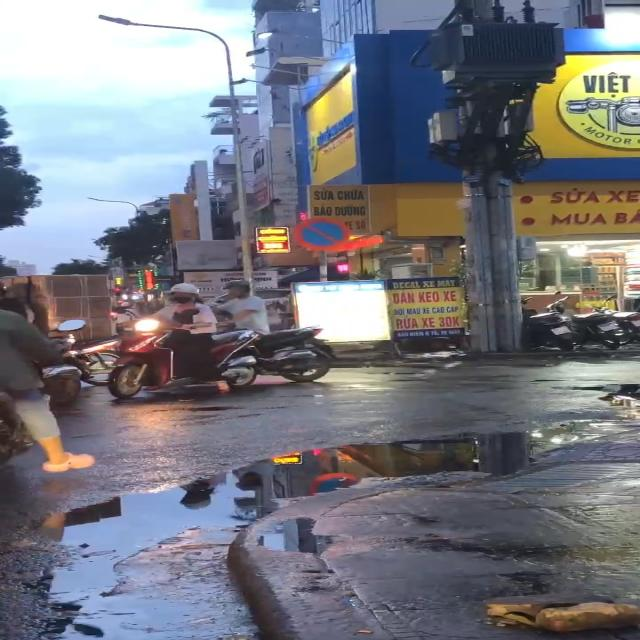Bien bao cam do xe: (292, 217, 356, 254)
